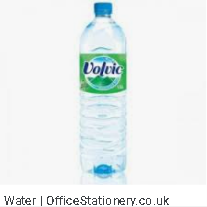Bottle: (80, 2, 126, 180)
